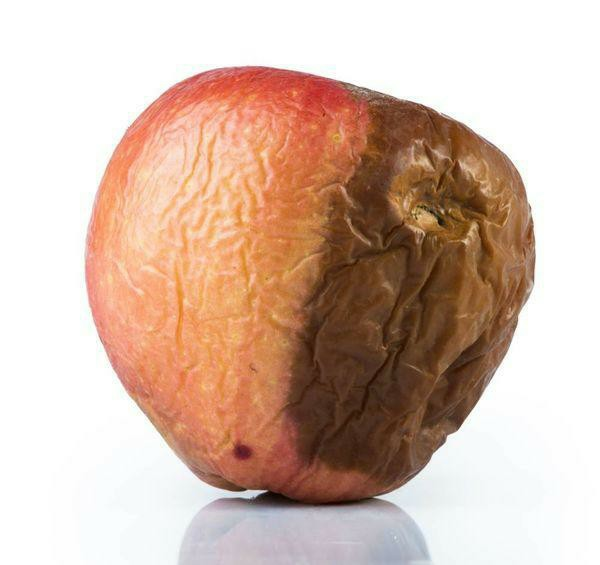rotten_apple: (88, 66, 537, 497)
